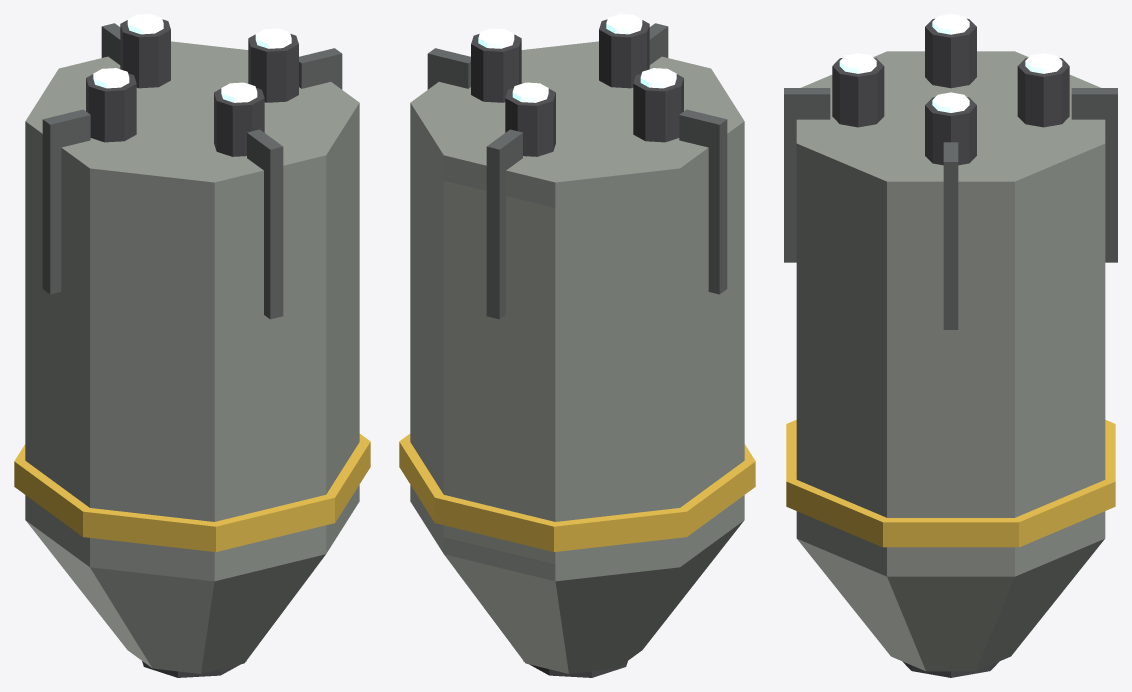
The model's file is ship_XS_DROPPOD.glb.
The picture shows the model from 3 angles, left to right: view 1: azimuth 30°, elevation 25°; view 2: azimuth 150°, elevation 25°; view 3: azimuth 270°, elevation 25°; orthographic projection.
Parts seen in each view (by area): view 1: XS_DROPPOD_Hull-col, XS_DROPPOD_Armor, XS_DROPPOD_Hazard, XS_DROPPOD_Engines, XS_DROPPOD_Trim, XS_DROPPOD_EngineGlow; view 2: XS_DROPPOD_Hull-col, XS_DROPPOD_Door-col, XS_DROPPOD_Armor, XS_DROPPOD_Hazard, XS_DROPPOD_Engines, XS_DROPPOD_Trim, XS_DROPPOD_EngineGlow; view 3: XS_DROPPOD_Hull-col, XS_DROPPOD_Armor, XS_DROPPOD_Engines, XS_DROPPOD_Hazard, XS_DROPPOD_Trim, XS_DROPPOD_EngineGlow.
Boxes of the visible parts, bbox=[...] form: XS_DROPPOD_Hull-col: bbox=[25, 41, 359, 581]; XS_DROPPOD_Armor: bbox=[26, 521, 325, 673]; XS_DROPPOD_Hazard: bbox=[14, 433, 370, 551]; XS_DROPPOD_Engines: bbox=[86, 19, 298, 677]; XS_DROPPOD_Trim: bbox=[42, 23, 342, 319]; XS_DROPPOD_EngineGlow: bbox=[93, 14, 291, 102]; XS_DROPPOD_Hull-col: bbox=[410, 41, 744, 581]; XS_DROPPOD_Door-col: bbox=[443, 181, 555, 564]; XS_DROPPOD_Armor: bbox=[444, 521, 743, 673]; XS_DROPPOD_Hazard: bbox=[399, 433, 755, 551]; XS_DROPPOD_Engines: bbox=[471, 19, 683, 677]; XS_DROPPOD_Trim: bbox=[427, 23, 727, 319]; XS_DROPPOD_EngineGlow: bbox=[478, 14, 676, 102]; XS_DROPPOD_Hull-col: bbox=[796, 51, 1105, 576]; XS_DROPPOD_Armor: bbox=[797, 539, 1104, 671]; XS_DROPPOD_Engines: bbox=[832, 18, 1069, 677]; XS_DROPPOD_Hazard: bbox=[786, 420, 1115, 547]; XS_DROPPOD_Trim: bbox=[784, 88, 1117, 329]; XS_DROPPOD_EngineGlow: bbox=[839, 14, 1062, 112].
Size of the model in its own units: 1.8 by 3.53 by 1.8.
